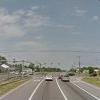Car: (57, 71, 72, 83)
